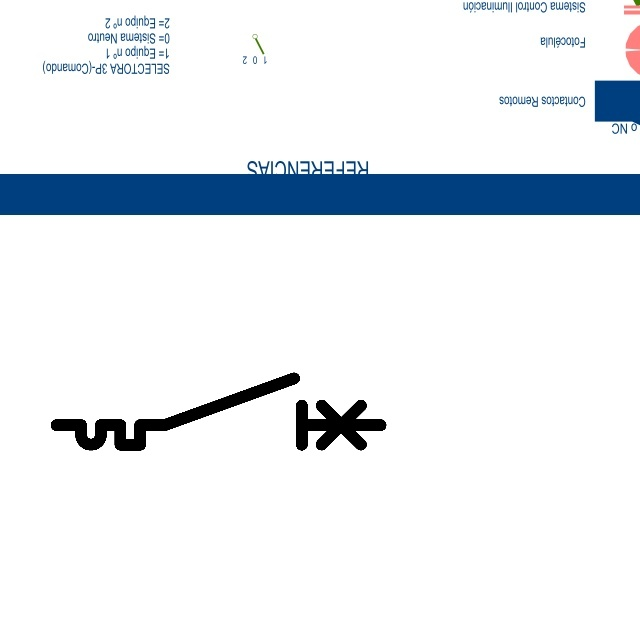interruptor_termomagnetico: (48, 370, 389, 453)
